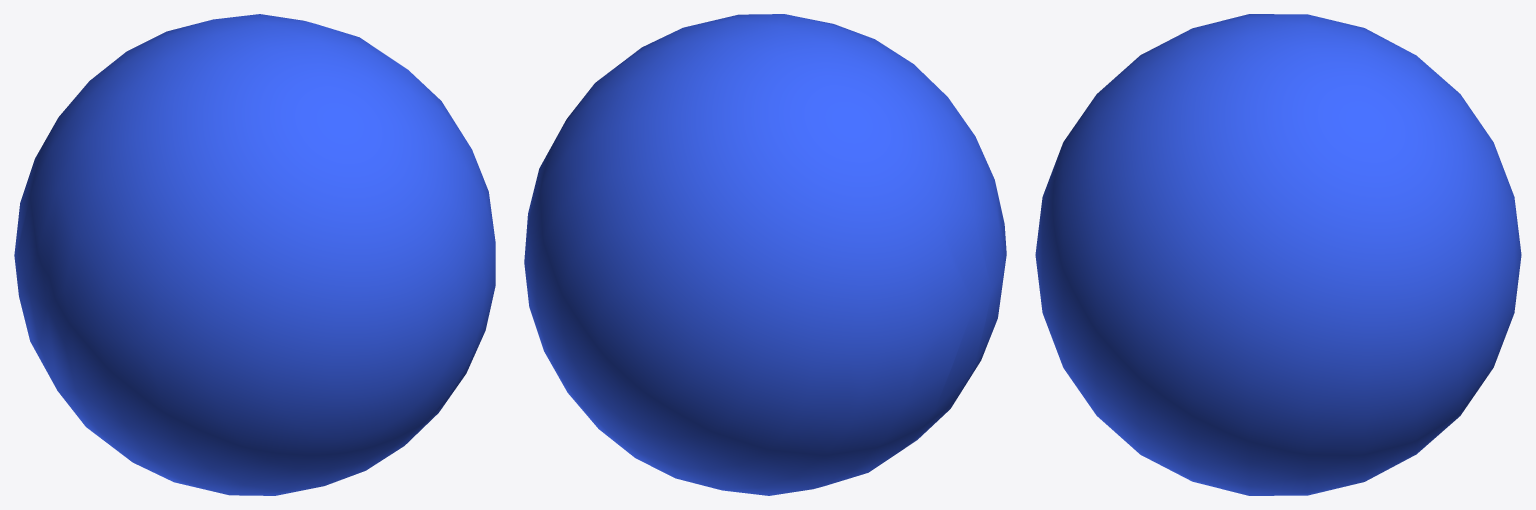
The picture shows the model from 3 angles, left to right: view 1: azimuth 30°, elevation 25°; view 2: azimuth 150°, elevation 25°; view 3: azimuth 270°, elevation 25°; orthographic projection.
Parts seen in each view (by area): view 1: Tennis Ball _ Blue; view 2: Tennis Ball _ Blue; view 3: Tennis Ball _ Blue.
Boxes of the visible parts, left/top/right/bottom form: Tennis Ball _ Blue: left=14, top=14, right=495, bottom=495; Tennis Ball _ Blue: left=524, top=14, right=1006, bottom=495; Tennis Ball _ Blue: left=1035, top=14, right=1521, bottom=495.
Bounding box in the file's own units: 0.2388 × 0.238 × 0.2397.
